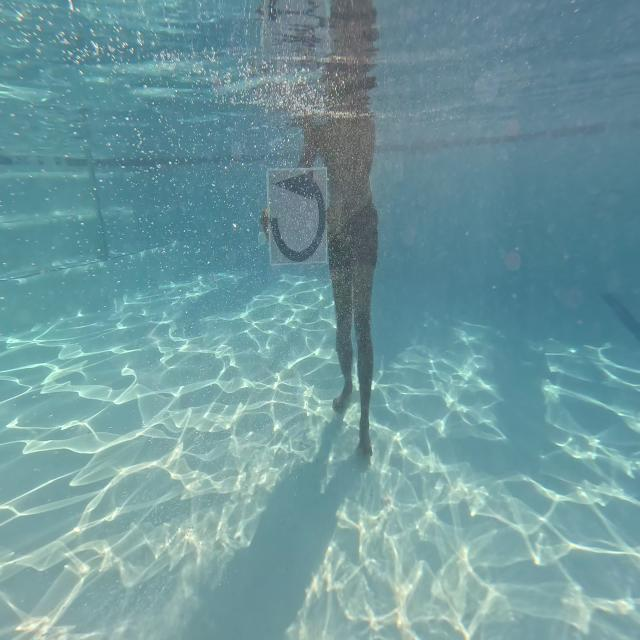blue_side: (259, 163, 329, 272)
